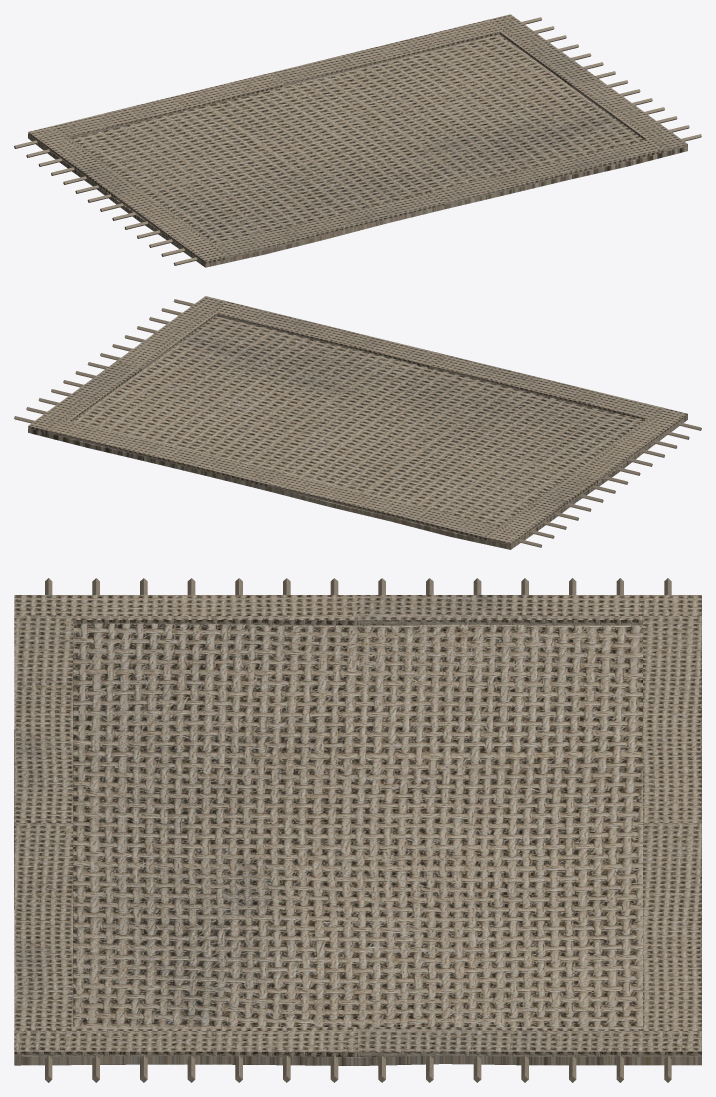
Rendered from worn-rug-v01.glb.
3 views of the same model, one above another, from view 1: azimuth 30°, elevation 25°; view 2: azimuth 150°, elevation 25°; view 3: azimuth 270°, elevation 25° (orthographic). The views are drawn at different scales.
Visible parts, largest first — view 1: worn-rug; view 2: worn-rug; view 3: worn-rug.
Part boxes in pixels (x1=…): worn-rug: x1=14, y1=14, x2=701, y2=267; worn-rug: x1=14, y1=296, x2=701, y2=549; worn-rug: x1=14, y1=578, x2=701, y2=1082.
Bounding box in the file's own units: 2.4 × 0.0371 × 1.4.
Materials: 3 (3 with a texture image).
